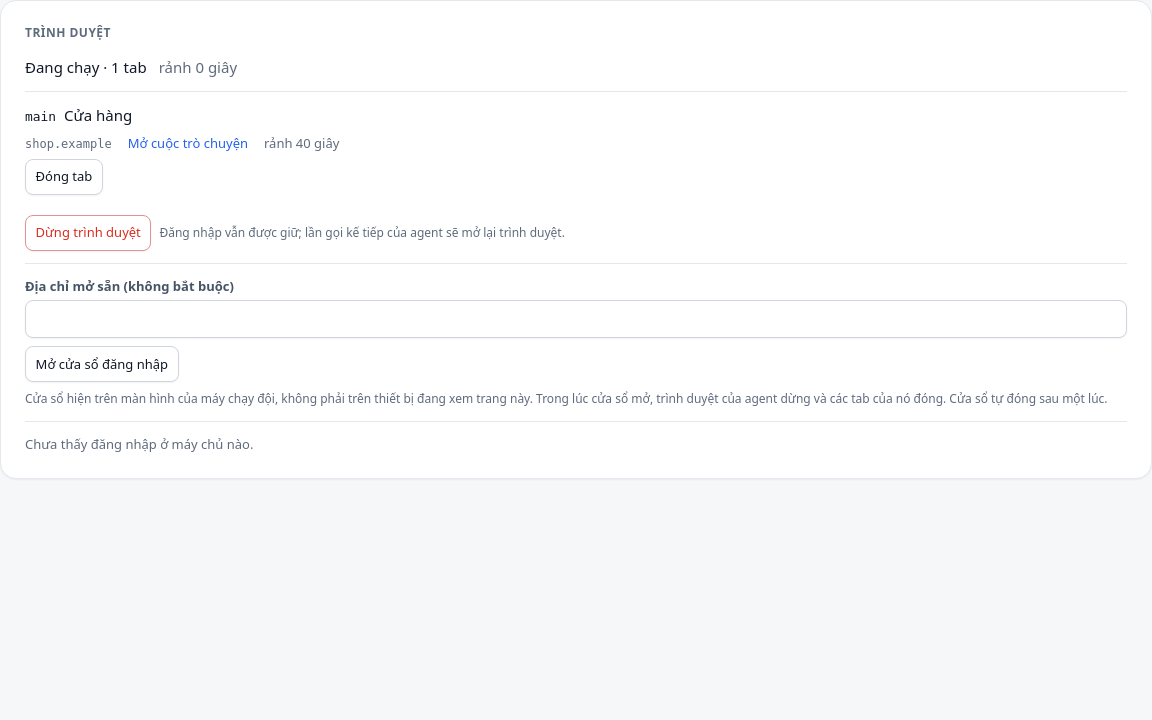
stopping the browser › says a stop the server refused with 409, and the browser is still there to stop
Expected: the list item with test id "browser-tab-1" is shown, [25,91,1127,207]
Step 1. Click the button "Dừng trình duyệt" → (88, 233), box [25,215,151,251]
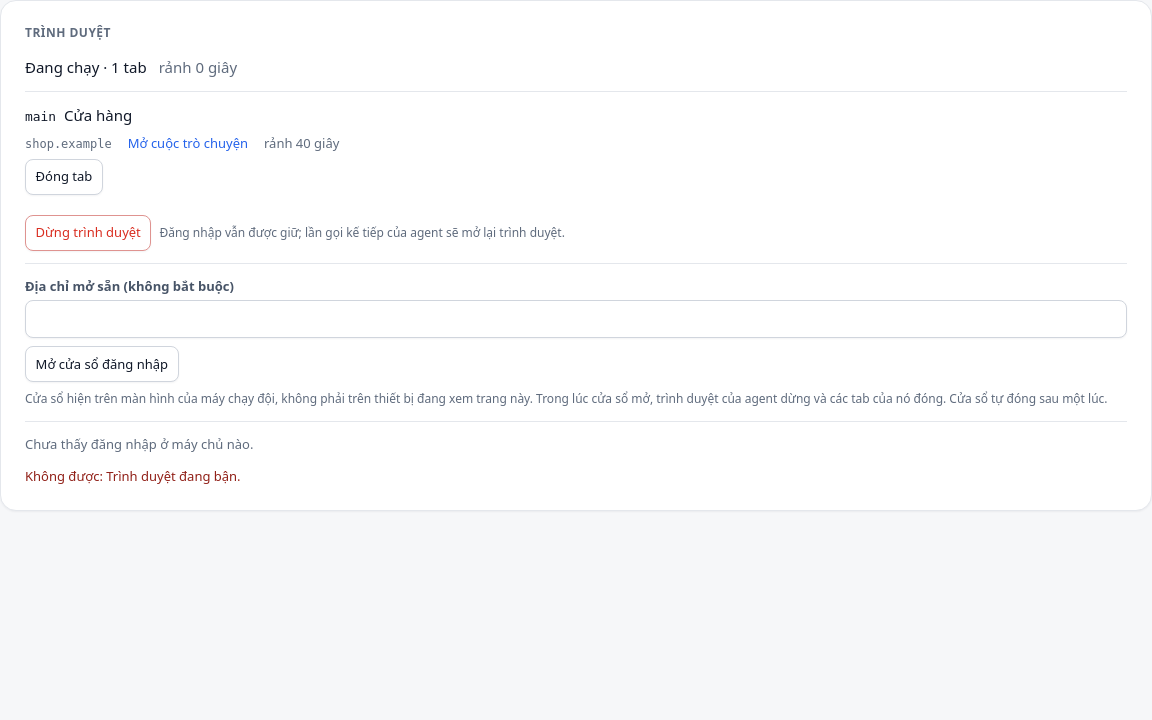
Expected: the message with test id "browser-state" reads "Đang chạy · 1 tab", [25,57,147,77]
Expected: the message with test id "browser-note" reads "Không được: Trình duyệt đang bận.", [25,467,241,485]
